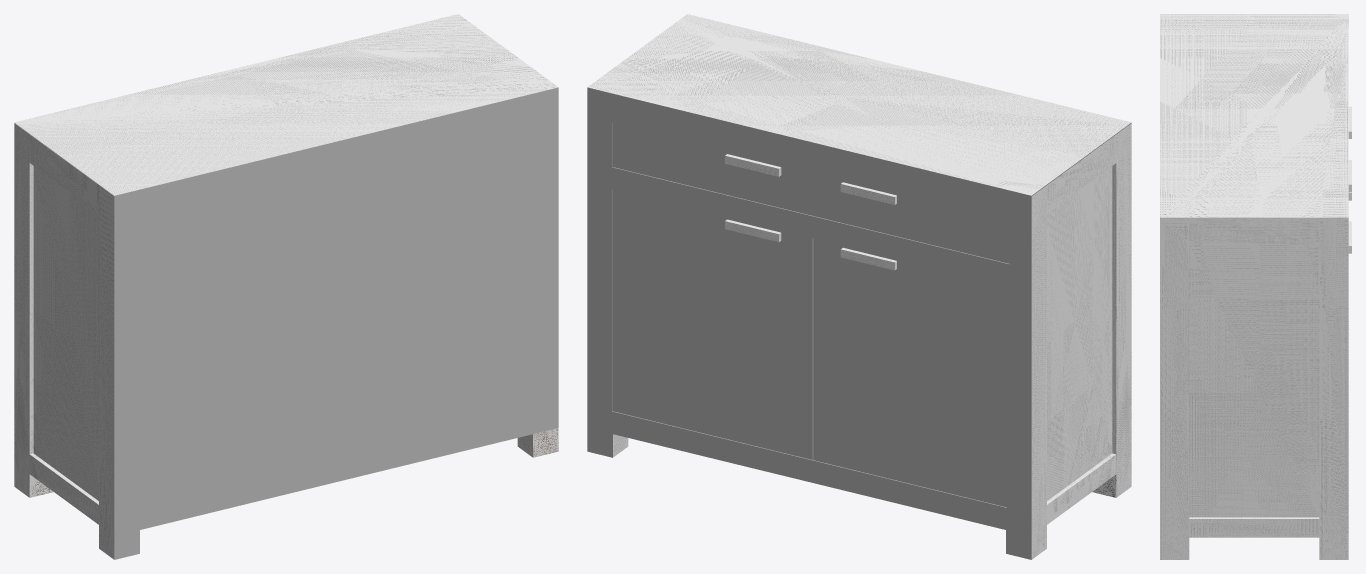
The picture shows the model from 3 angles, left to right: view 1: azimuth 30°, elevation 25°; view 2: azimuth 150°, elevation 25°; view 3: azimuth 270°, elevation 25°; orthographic projection. The views are drawn at different scales.
Visible parts, largest first — view 1: mesh1_mesh1-geometry; view 2: mesh1_mesh1-geometry; view 3: mesh1_mesh1-geometry.
Part boxes in pixels (bbox=[...]): mesh1_mesh1-geometry: bbox=[14, 14, 558, 559]; mesh1_mesh1-geometry: bbox=[587, 14, 1131, 559]; mesh1_mesh1-geometry: bbox=[1160, 14, 1348, 559].
Size of the model in its own units: 0.746 by 0.5842 by 0.2967.
